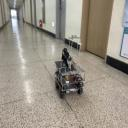cart: (54, 61, 86, 99)
